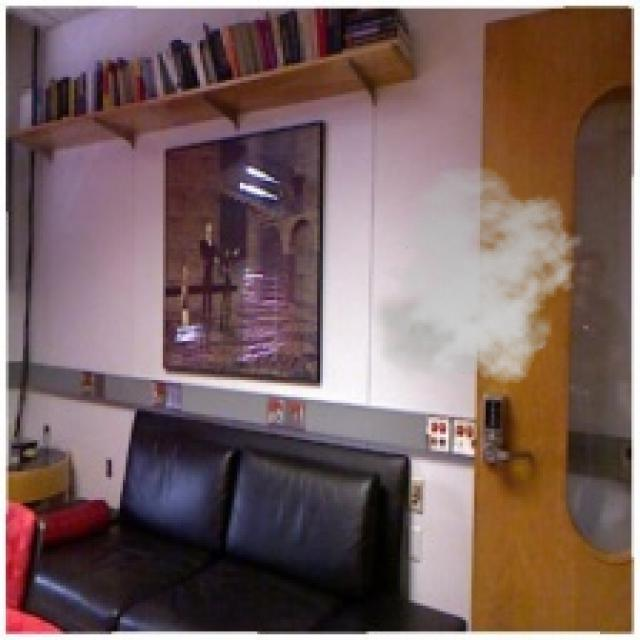smoke: (368, 166, 583, 391)
